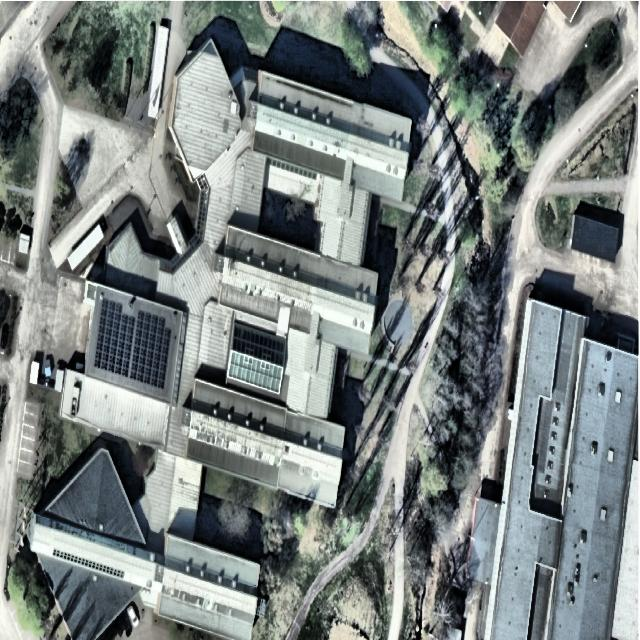roof_pv: (130, 305, 172, 393), (94, 300, 135, 382)
